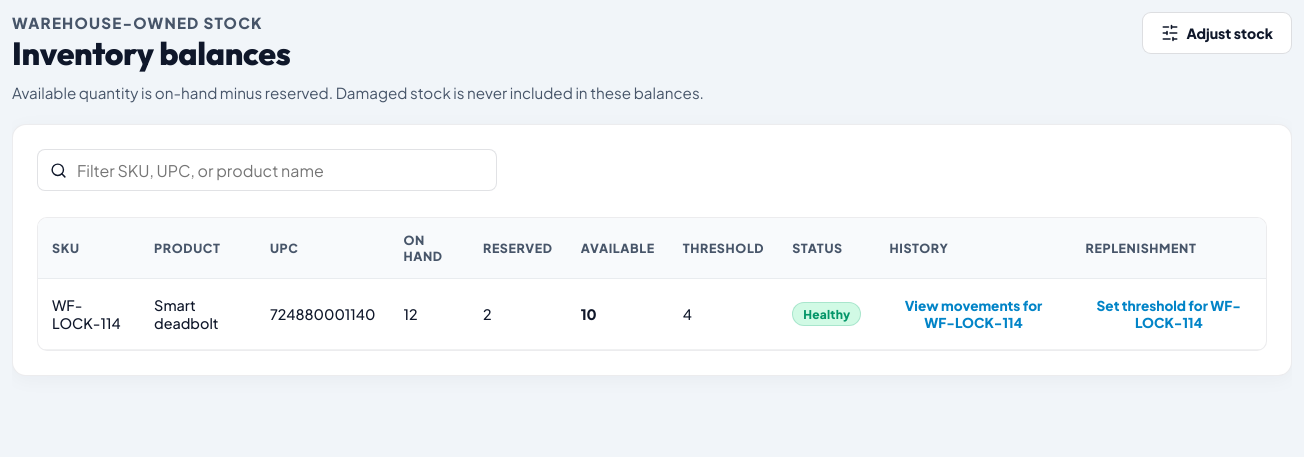
Scenario: InventoryPage manager controls › lets a manager update only the selected warehouse threshold
Click the button "Set threshold for WF-LOCK-114".
click(1169, 314)  # box [1086,293,1252,335]
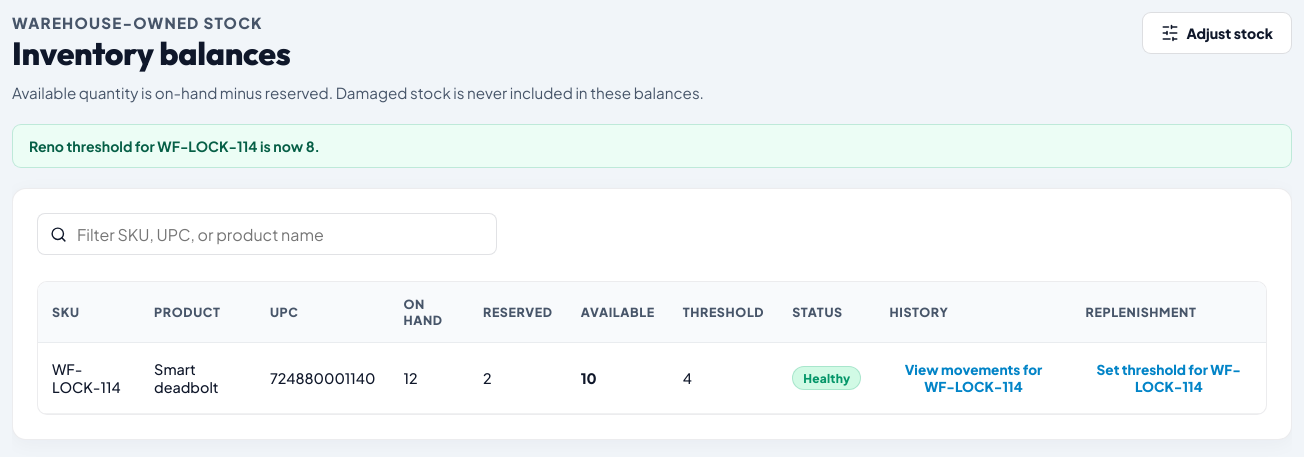
Check: the message shows "Reno threshold for WF-LOCK-114 is now 8", box [29,137,320,155]
